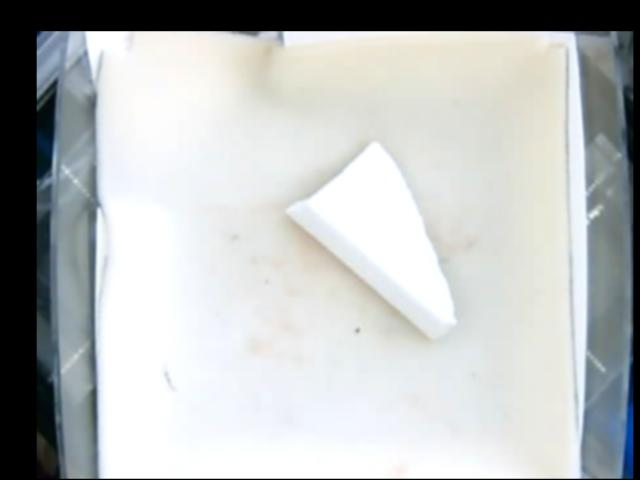China: (285, 138, 455, 344)
